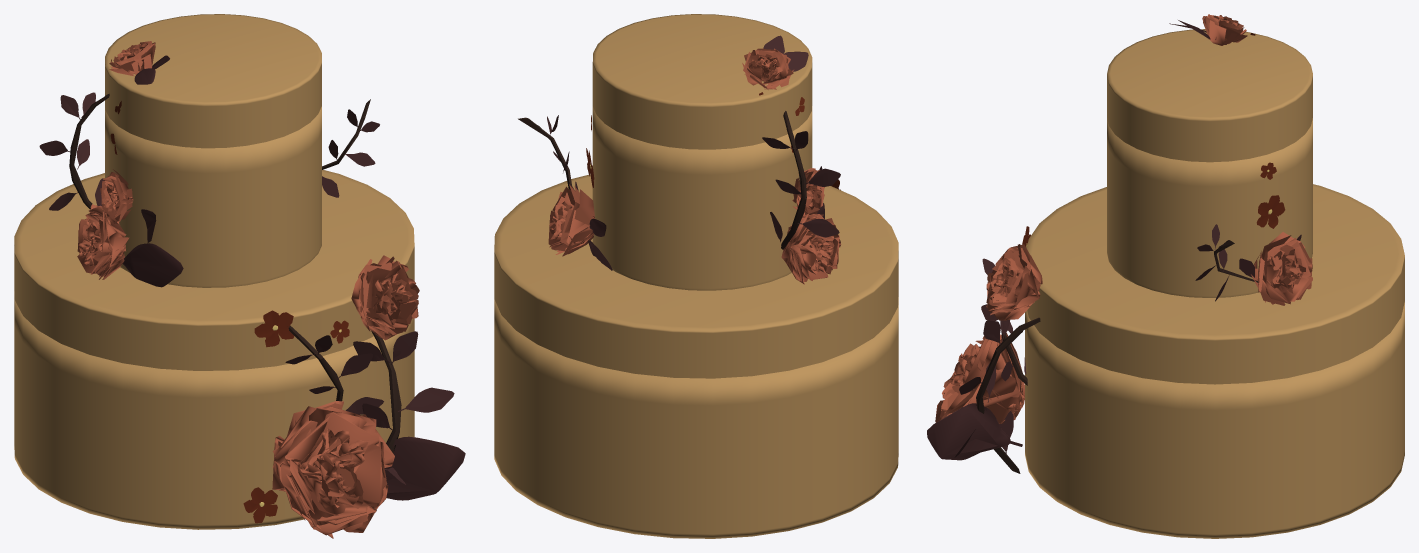
File: 2-tier-caramel-roses-none.glb
3 views of the same model, side by side, from view 1: azimuth 30°, elevation 25°; view 2: azimuth 150°, elevation 25°; view 3: azimuth 270°, elevation 25° (orthographic). The views are drawn at different scales.
Visible parts, largest first — view 1: Cylinder.023, Cylinder.013, grid.025, grid.024, Plane.049, Plane.059, grid.026, Plane.056, Plane.058, Plane.052, Plane.045, grid.027 (+3 smaller); view 2: Cylinder.023, Cylinder.013, grid.026, Plane.056, grid.028, grid.014, grid.027, Plane.045; view 3: Cylinder.023, Cylinder.013, grid.025, grid.028, Plane.049, grid.024, Plane.059, Plane.045, grid.014, Plane.058, Sphere.032.
Boxes of the visible parts, x1,y1,x2,y2 form: Cylinder.023: (14, 170, 414, 529); Cylinder.013: (105, 14, 321, 287); grid.025: (272, 401, 394, 538); grid.024: (351, 255, 419, 340); Plane.049: (384, 436, 465, 500); Plane.059: (353, 331, 454, 484); grid.026: (77, 204, 129, 279); Plane.056: (39, 92, 109, 210); Plane.058: (285, 325, 383, 414); Plane.052: (122, 243, 183, 287); Plane.045: (322, 99, 379, 197); grid.027: (100, 169, 133, 223); Cylinder.023: (494, 174, 898, 538); Cylinder.013: (592, 14, 812, 290); grid.026: (781, 213, 841, 284); Plane.056: (762, 111, 840, 249); grid.028: (548, 184, 595, 256); grid.014: (742, 48, 793, 89); grid.027: (792, 168, 824, 219); Plane.045: (518, 115, 578, 190); Cylinder.023: (1025, 184, 1404, 538); Cylinder.013: (1107, 29, 1312, 297); grid.025: (935, 328, 1024, 423); grid.028: (1251, 232, 1312, 305); Plane.049: (927, 403, 1022, 460); grid.024: (986, 244, 1042, 320); Plane.059: (954, 317, 1040, 473); Plane.045: (1195, 224, 1259, 301); grid.014: (1202, 14, 1247, 45); Plane.058: (981, 258, 1027, 385); Sphere.032: (1256, 195, 1285, 228).
Bounding box in the file's own units: 3.4 × 3.99 × 4.11.
